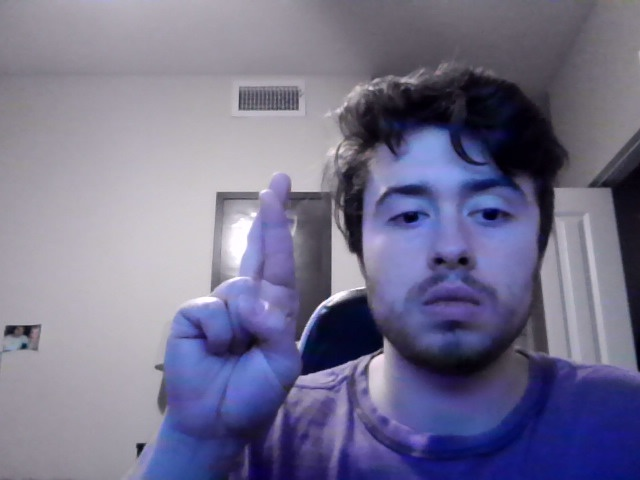r: (163, 171, 302, 458)
